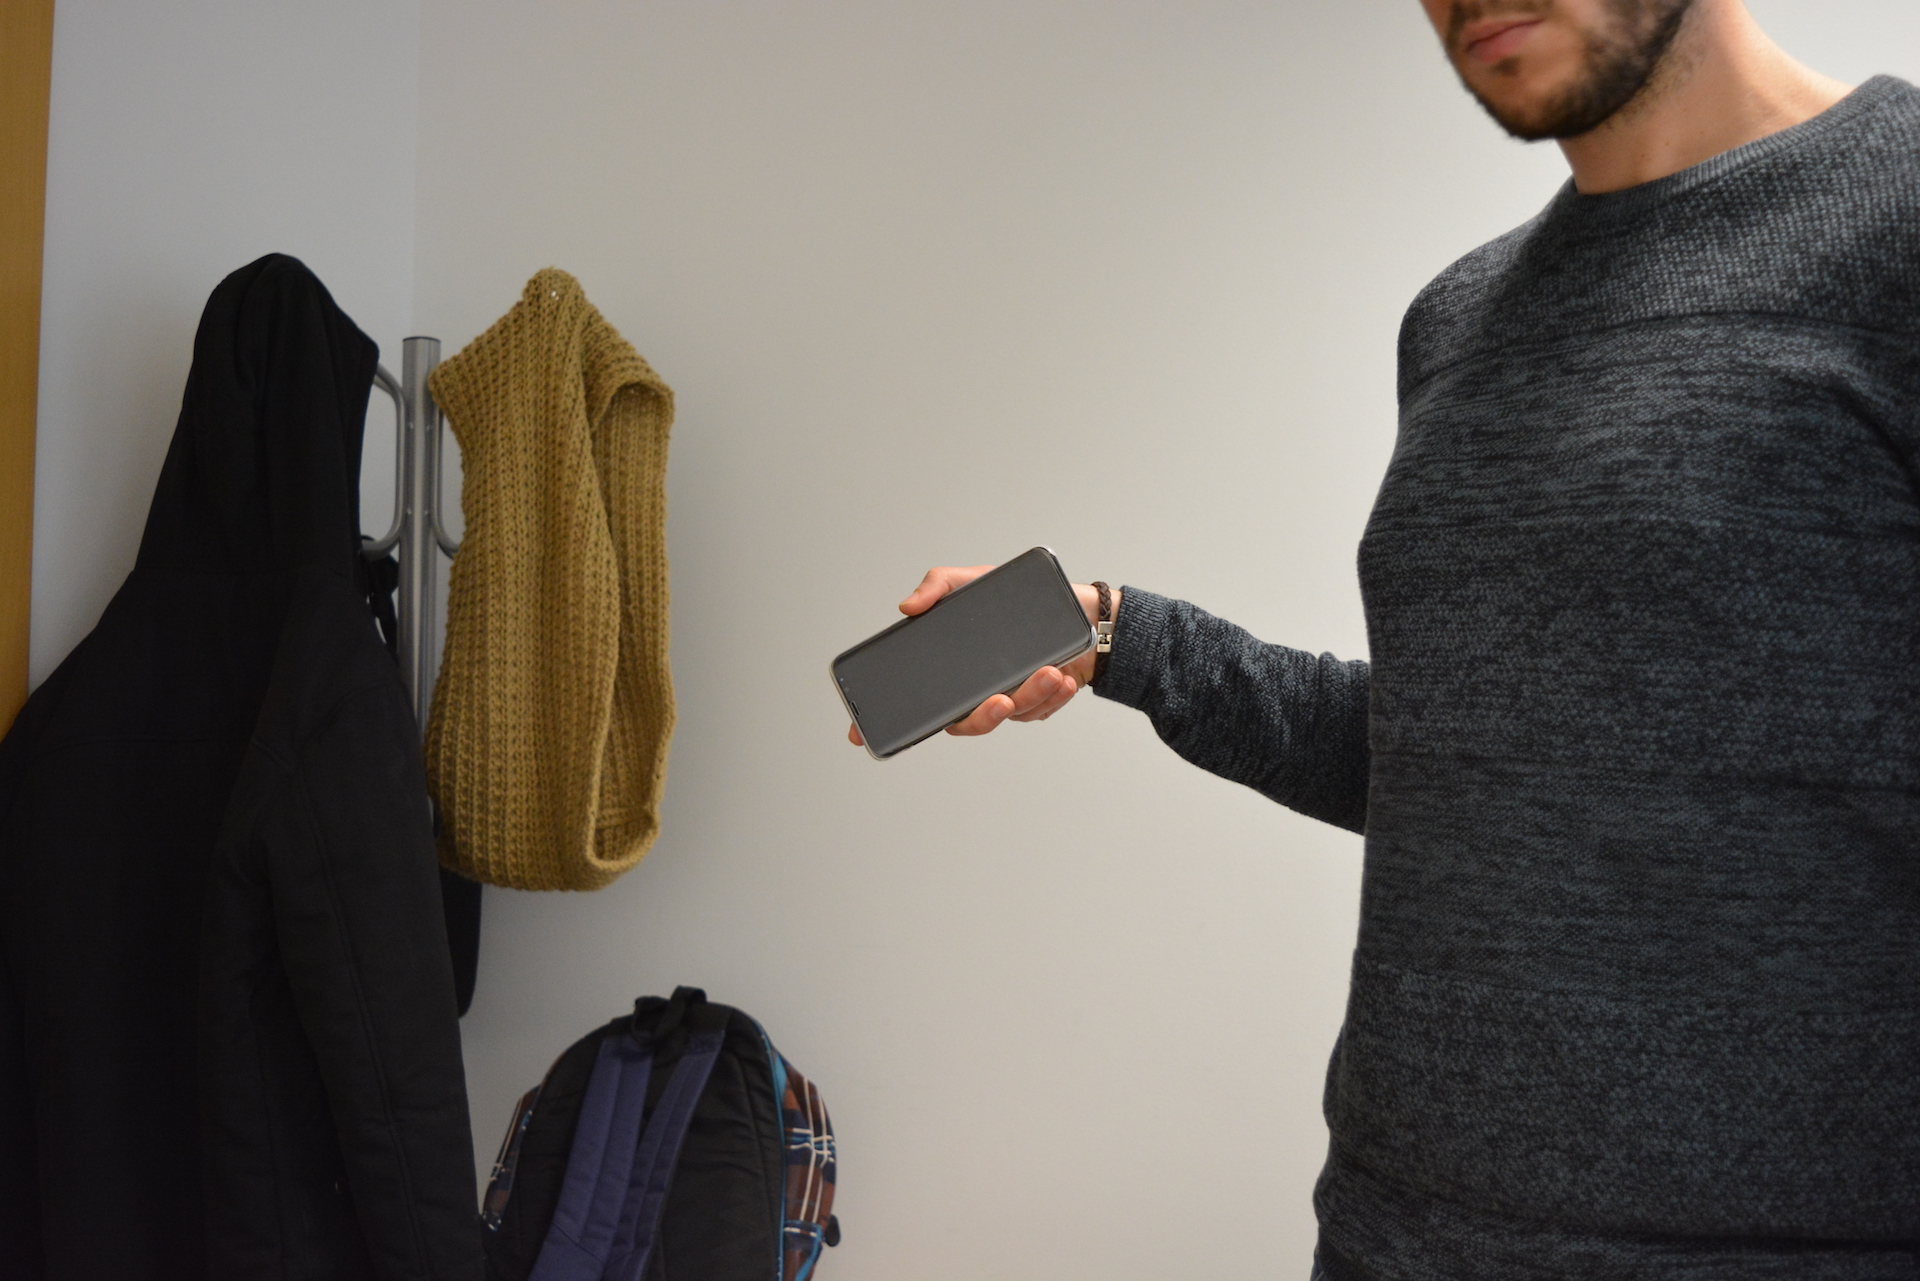smartphone: (826, 543, 1099, 762)
